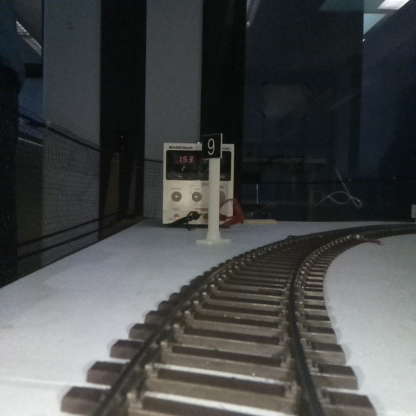black-info-9: (202, 135, 220, 243)
